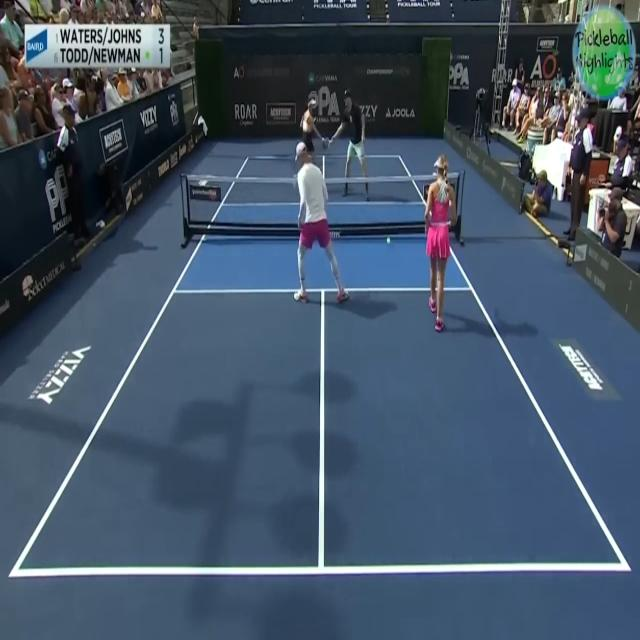Pickleball: (385, 235, 391, 246)
